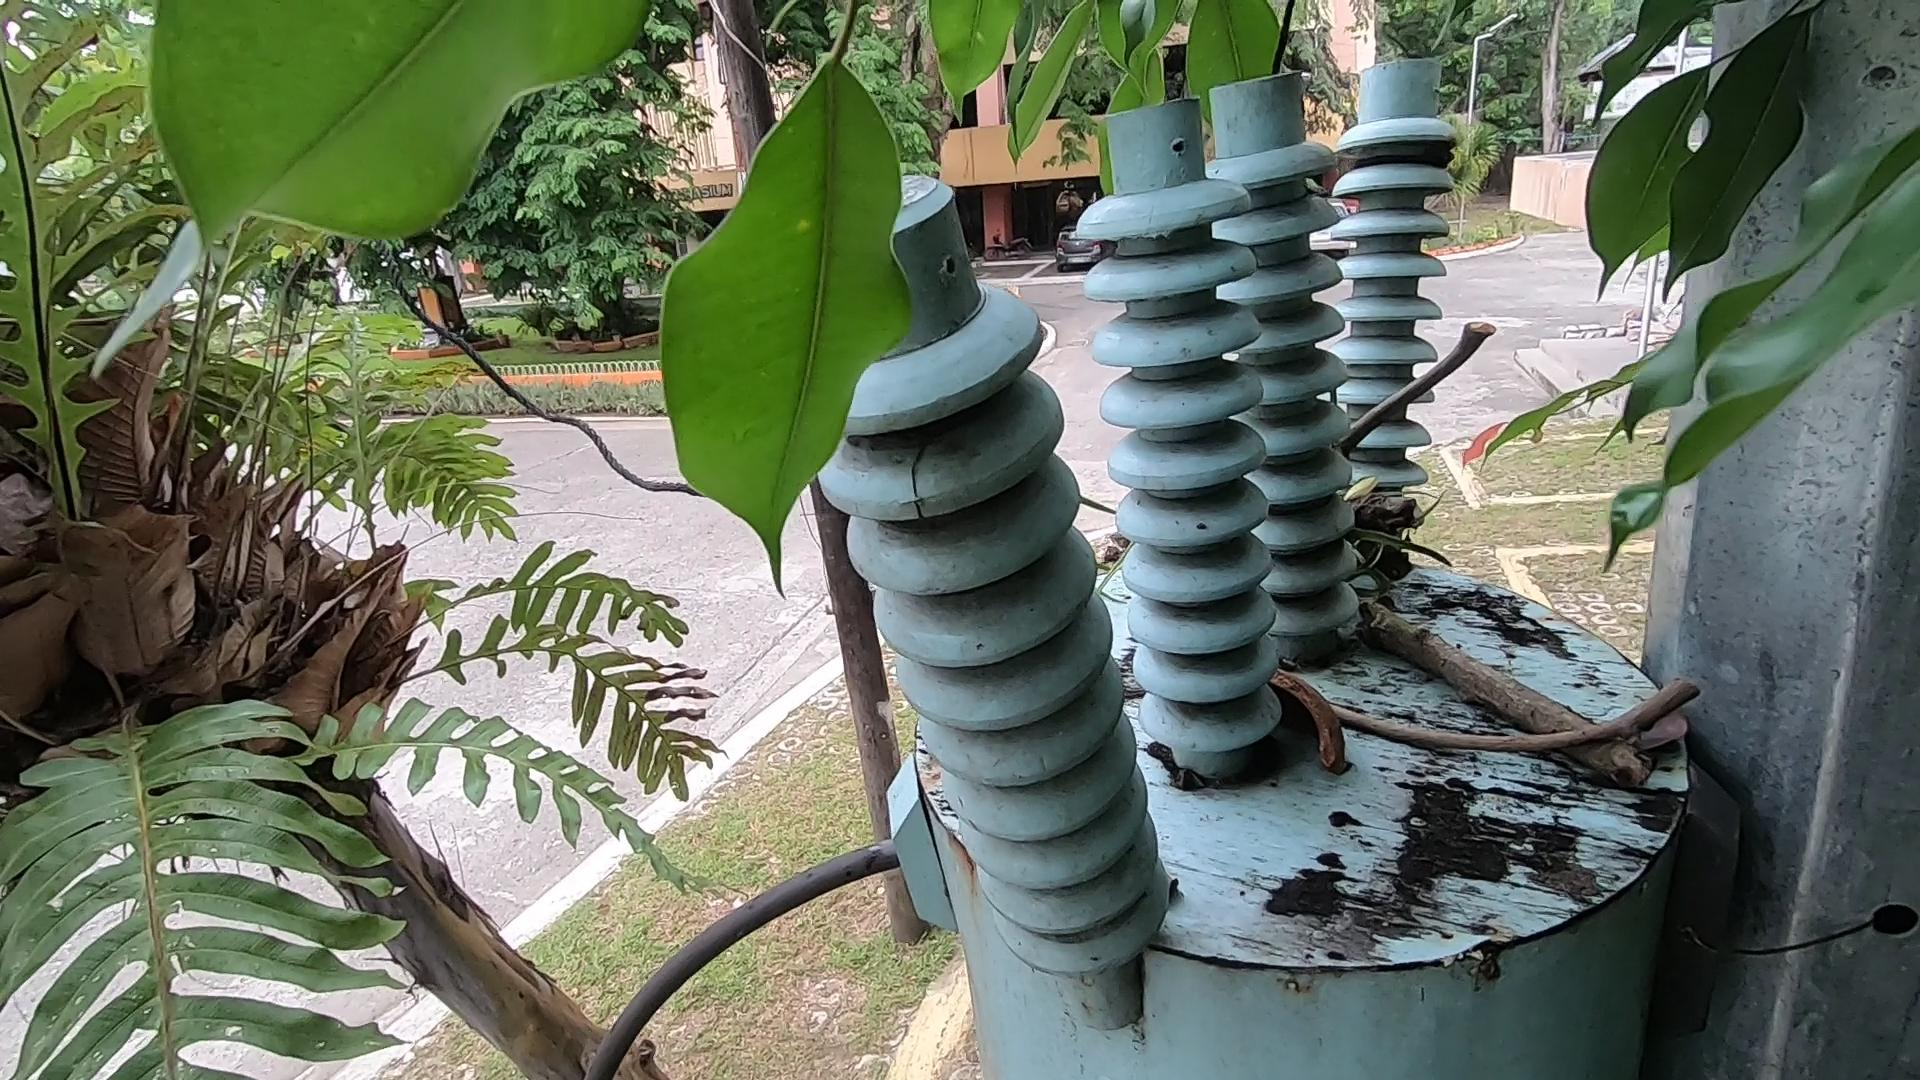branch with leaves: (1324, 423, 1673, 814)
leaf: (1586, 618, 1735, 765)
mahogany fruit: (1244, 655, 1391, 796)
tree branch: (1312, 200, 1510, 553), (1241, 676, 1712, 757)
